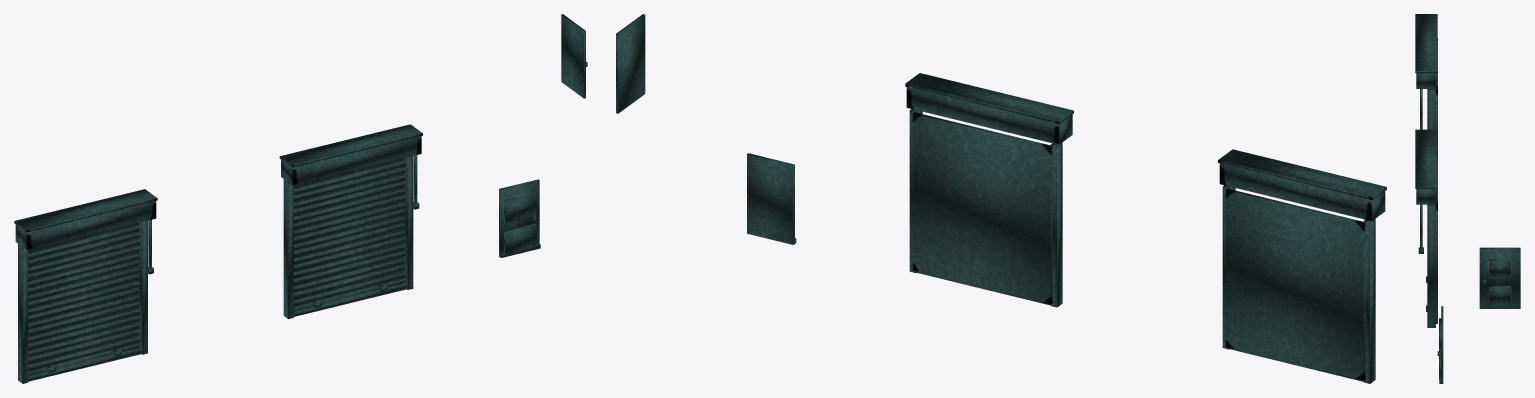
Rendered from Albatros_Portones.fbx.
3 renders of one model, left to right at view 1: azimuth 30°, elevation 25°; view 2: azimuth 150°, elevation 25°; view 3: azimuth 270°, elevation 25°, orthographic. The views are drawn at different scales.
Visible parts, largest first — view 1: Albatros_Portones; view 2: Albatros_Portones; view 3: Albatros_Portones.
Boxes of the visible parts, box(x1,y1,x2,y2) form: Albatros_Portones: box(14, 14, 587, 383); Albatros_Portones: box(616, 14, 1386, 383); Albatros_Portones: box(1415, 14, 1520, 383).
Bounding box in the file's own units: 72.25 × 21.6 × 12.3.
